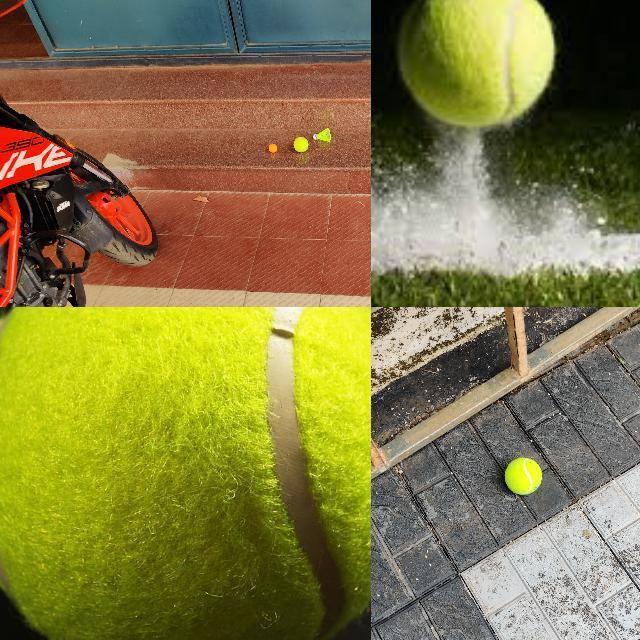tennis-ball: (0, 307, 370, 639), (393, 0, 556, 130), (504, 457, 542, 495), (292, 136, 308, 152)
